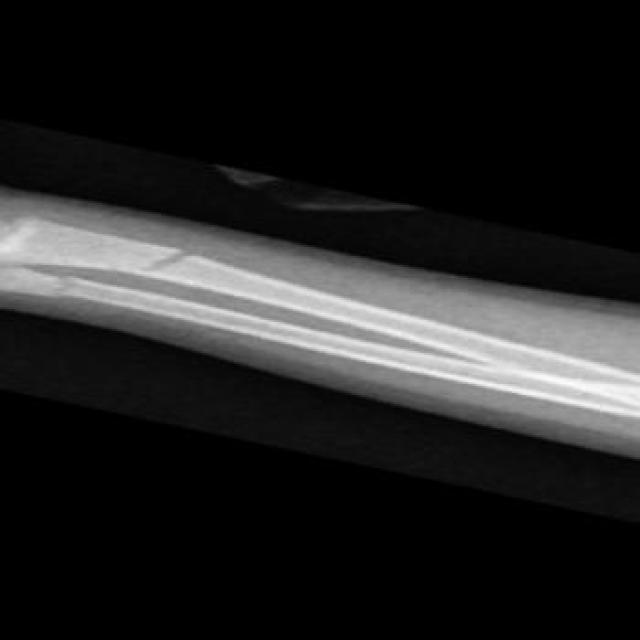Fracture: (126, 243, 207, 284), (35, 269, 96, 304)
